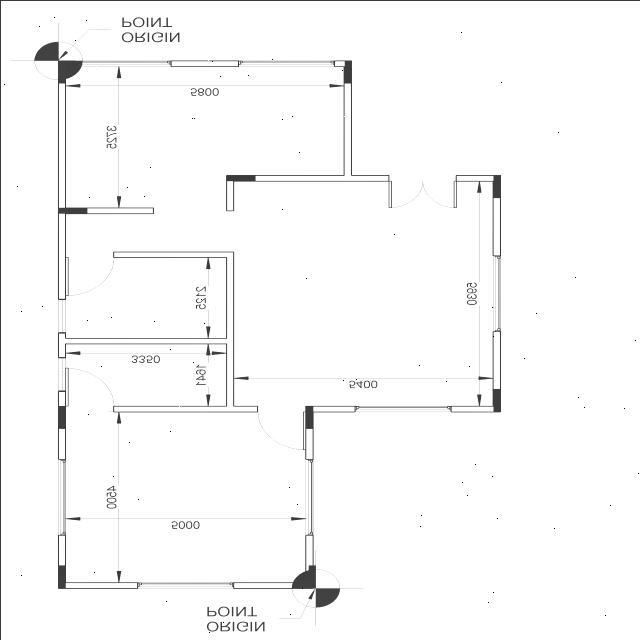Column: (307, 564, 315, 588), (57, 564, 65, 588), (304, 404, 312, 428), (57, 59, 65, 82), (343, 59, 351, 82), (492, 174, 500, 197), (56, 207, 86, 213), (225, 174, 255, 180), (57, 406, 65, 428), (492, 388, 499, 412)
Door: (64, 366, 114, 412), (64, 251, 113, 295), (257, 405, 305, 449)
Double-Door: (388, 175, 456, 207)
Window: (304, 458, 312, 534), (492, 255, 500, 331), (57, 458, 65, 534), (354, 405, 451, 411), (237, 60, 334, 66), (136, 582, 232, 588), (74, 60, 170, 66), (57, 357, 65, 391), (58, 298, 64, 332)
